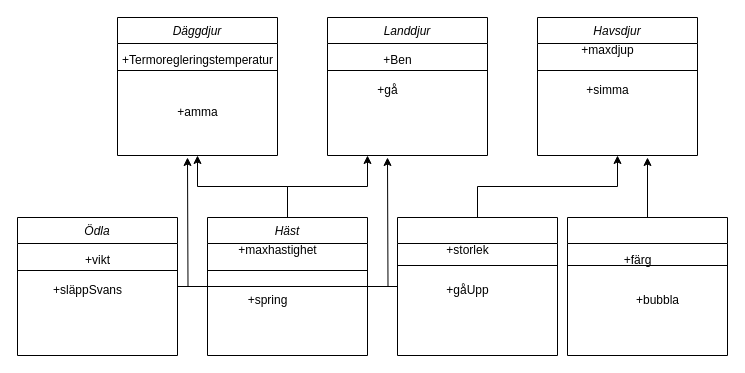
This 745x373 diagram has some shape labels left out. Each missing label, with the box of its shape:
Fisk: (566, 216, 728, 356)
Val: (396, 216, 558, 356)
